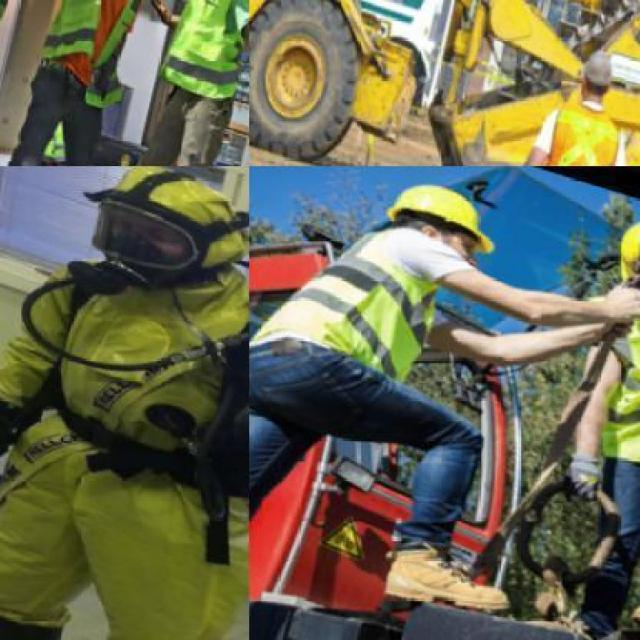Vest: (0, 223, 248, 639), (254, 184, 457, 390), (31, 0, 163, 111), (586, 259, 639, 486), (157, 0, 248, 108), (532, 86, 631, 165)
